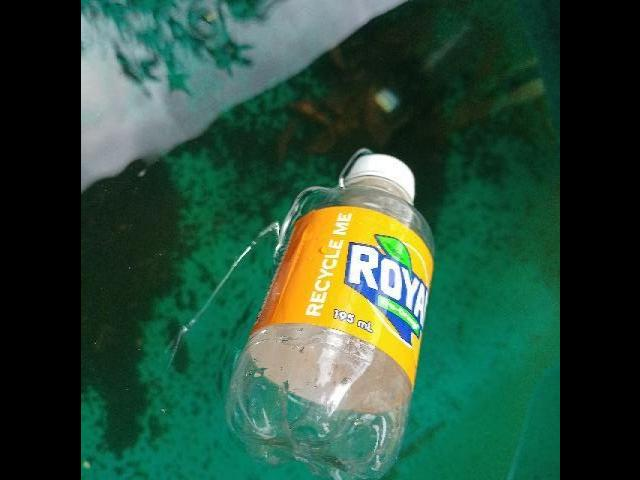Bottle: (220, 139, 442, 480)
